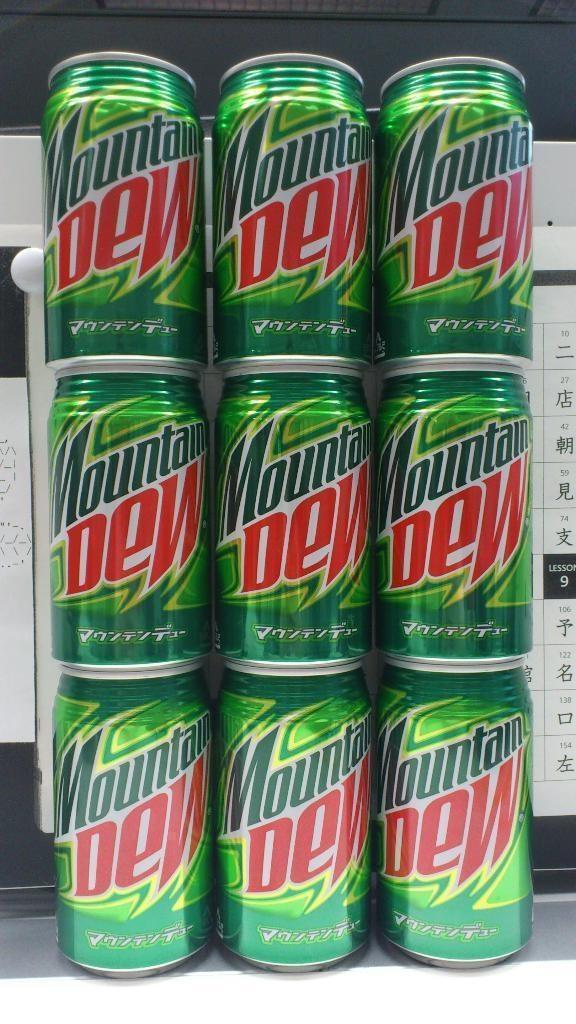tin can: (365, 52, 553, 367), (31, 369, 217, 676), (209, 35, 376, 373), (32, 671, 217, 965), (46, 48, 209, 373), (207, 366, 379, 668), (375, 360, 539, 673), (372, 663, 540, 963), (217, 666, 376, 974)
